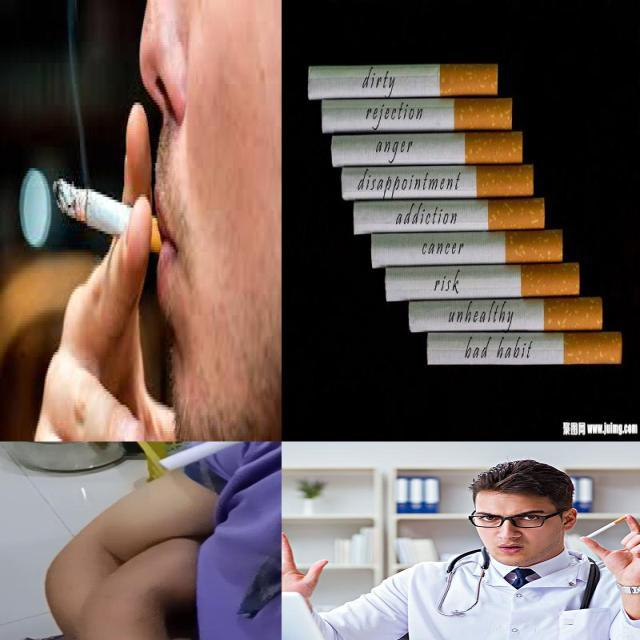smoking: (52, 177, 175, 269), (371, 229, 564, 269), (353, 197, 545, 236), (385, 263, 580, 301), (331, 130, 523, 168), (408, 296, 603, 333), (341, 165, 534, 201), (307, 65, 498, 101), (321, 99, 513, 133), (427, 332, 623, 365), (158, 442, 281, 472), (584, 514, 632, 538)
